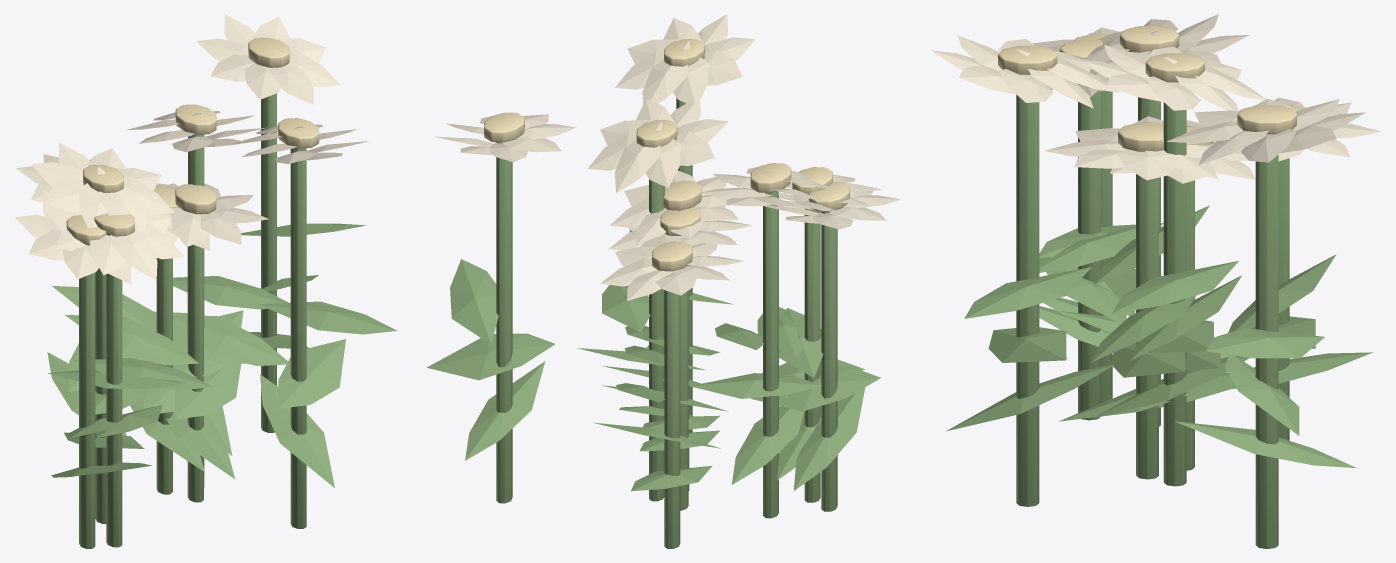
Rendered from daisy-clump.glb.
3 views of the same model, side by side, from view 1: azimuth 30°, elevation 25°; view 2: azimuth 150°, elevation 25°; view 3: azimuth 270°, elevation 25° (orthographic). The views are drawn at different scales.
Visible parts, largest first — view 1: daisy-clump; view 2: daisy-clump; view 3: daisy-clump.
Boxes of the visible parts, left/top/right/bottom form: daisy-clump: left=14, top=14, right=397, bottom=548; daisy-clump: left=427, top=14, right=900, bottom=548; daisy-clump: left=930, top=14, right=1381, bottom=548.
Size of the model in its own units: 0.5 by 0.5 by 0.45.
3 materials, 1 textured.
